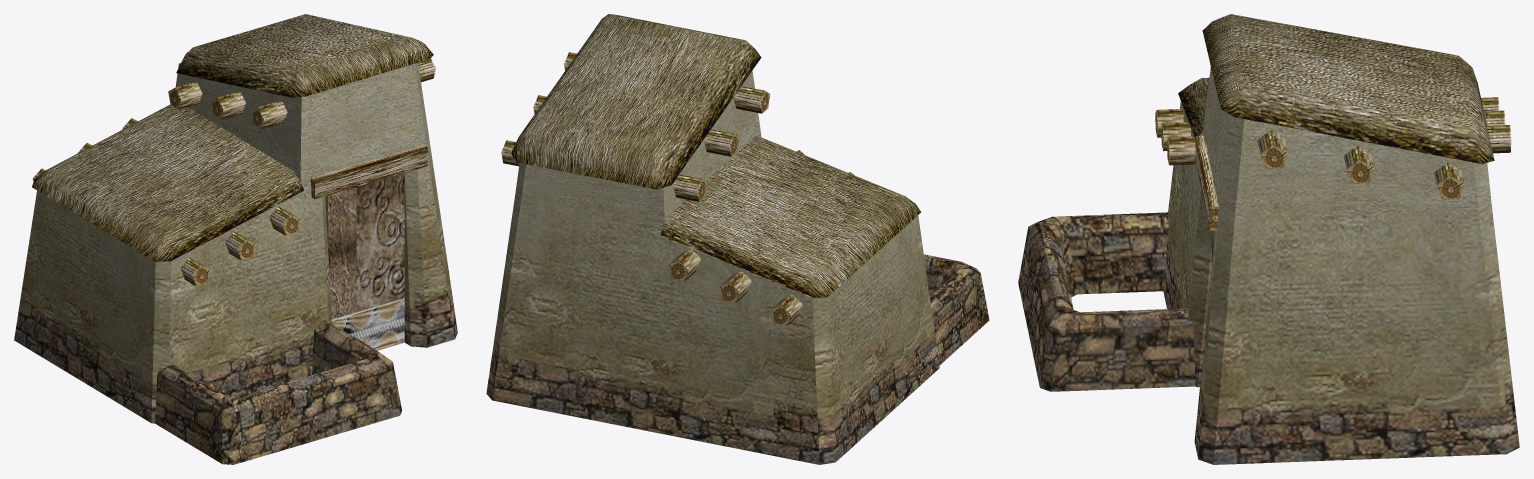
File: iber_house_b.dae
3 renders of one model, left to right at view 1: azimuth 30°, elevation 25°; view 2: azimuth 150°, elevation 25°; view 3: azimuth 270°, elevation 25°, orthographic. The views are drawn at different scales.
Visible parts, largest first — view 1: Box04; view 2: Box04; view 3: Box04.
Part boxes in pixels (x1,y1,x2,y2): Box04: [14, 14, 457, 464]; Box04: [486, 14, 989, 464]; Box04: [1018, 14, 1519, 464].
Size of the model in its own units: 8.55 by 7.03 by 8.87.
